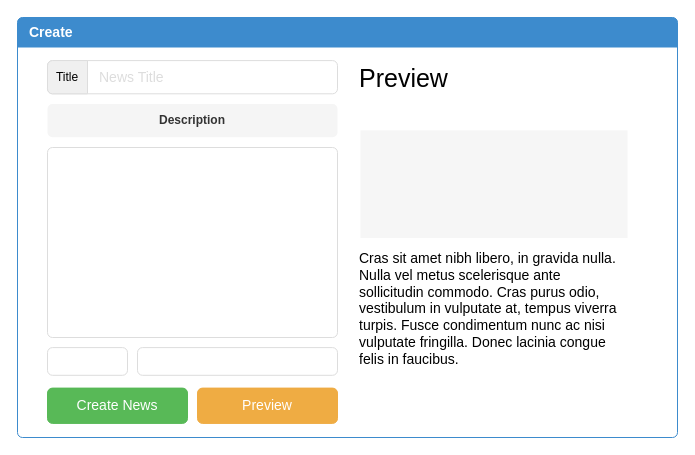
Image size: 695x455. Some labels were removed from this diagram. The shapes that lost their labels are listed below. From the top down, each one's box as (x1, y1, x2, y2) in pixels, then its label:
(356, 103, 558, 130): This is the Title
(360, 130, 627, 238): 64x64
(46, 347, 128, 375): Select Image
